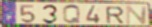3: (40, 4, 60, 24)
4: (85, 5, 102, 25)
5: (19, 4, 38, 24)
N: (126, 5, 149, 25)
Q: (62, 4, 82, 25)
R: (105, 6, 126, 24)
